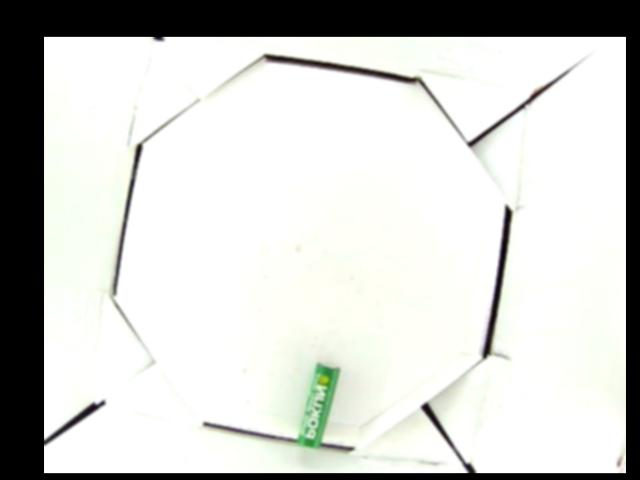Battery: (297, 361, 339, 449)
